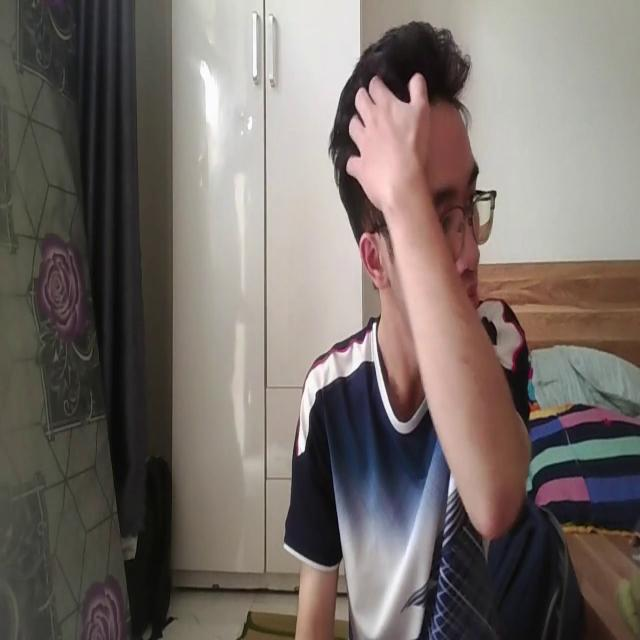student: (283, 3, 544, 640)
